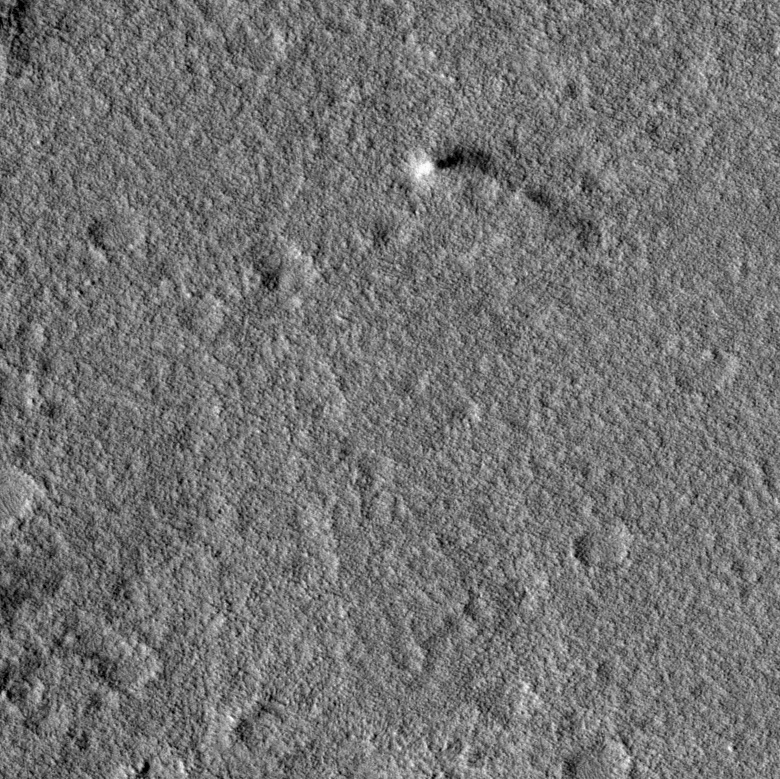dust_devil: (410, 140, 557, 212)
